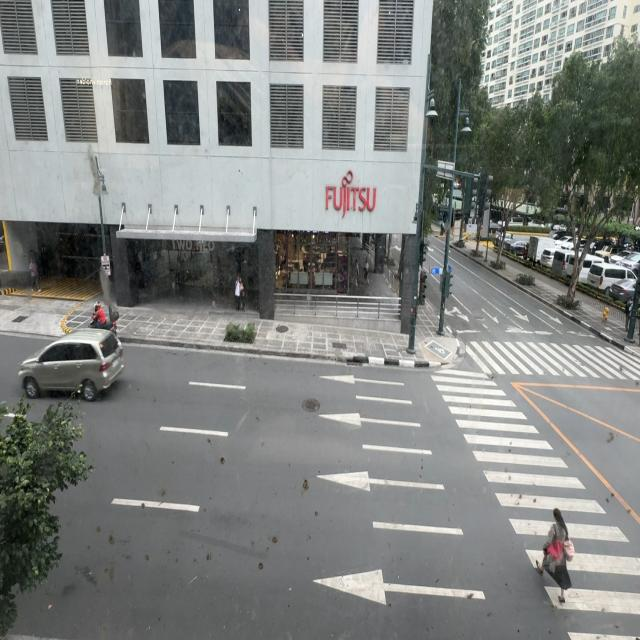crossing: (534, 490, 576, 606), (531, 504, 571, 603)
